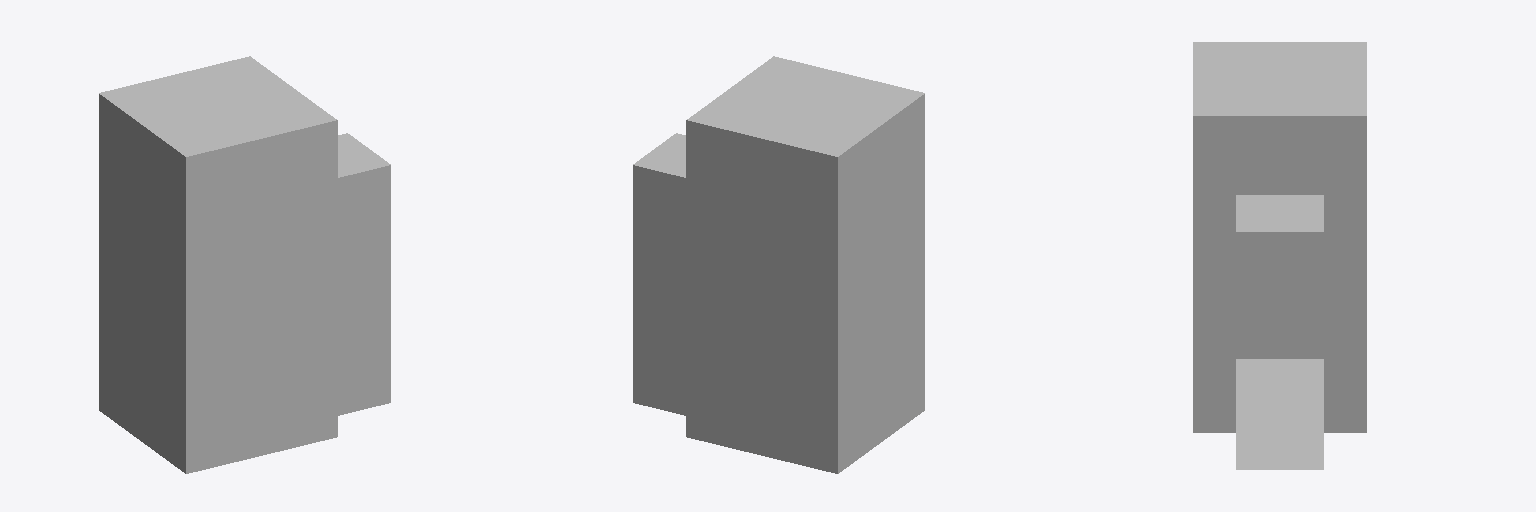
Rendered from FenceConnectedA.obj.
The picture shows the model from 3 angles: view 1: azimuth 30°, elevation 25°; view 2: azimuth 150°, elevation 25°; view 3: azimuth 270°, elevation 25°; orthographic projection.
Parts seen in each view (by area): view 1: cuboid; view 2: cuboid; view 3: cuboid.
Part boxes in pixels (x1,y1,x2,y2): cuboid: (99,56,390,473); cuboid: (633,56,924,473); cuboid: (1193,42,1366,469).
Size of the model in its own units: 1.5 by 2 by 1.